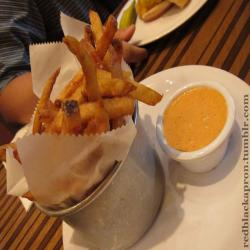fries: (25, 64, 136, 168)
